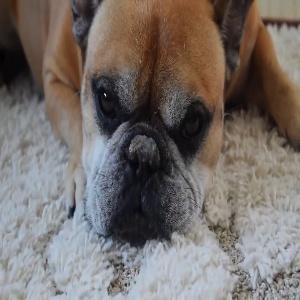keratosis: (123, 131, 162, 168)
